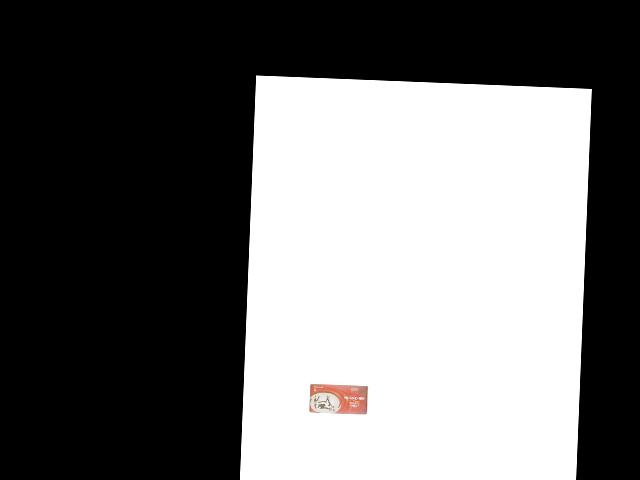chocolate: (309, 382, 369, 414)
